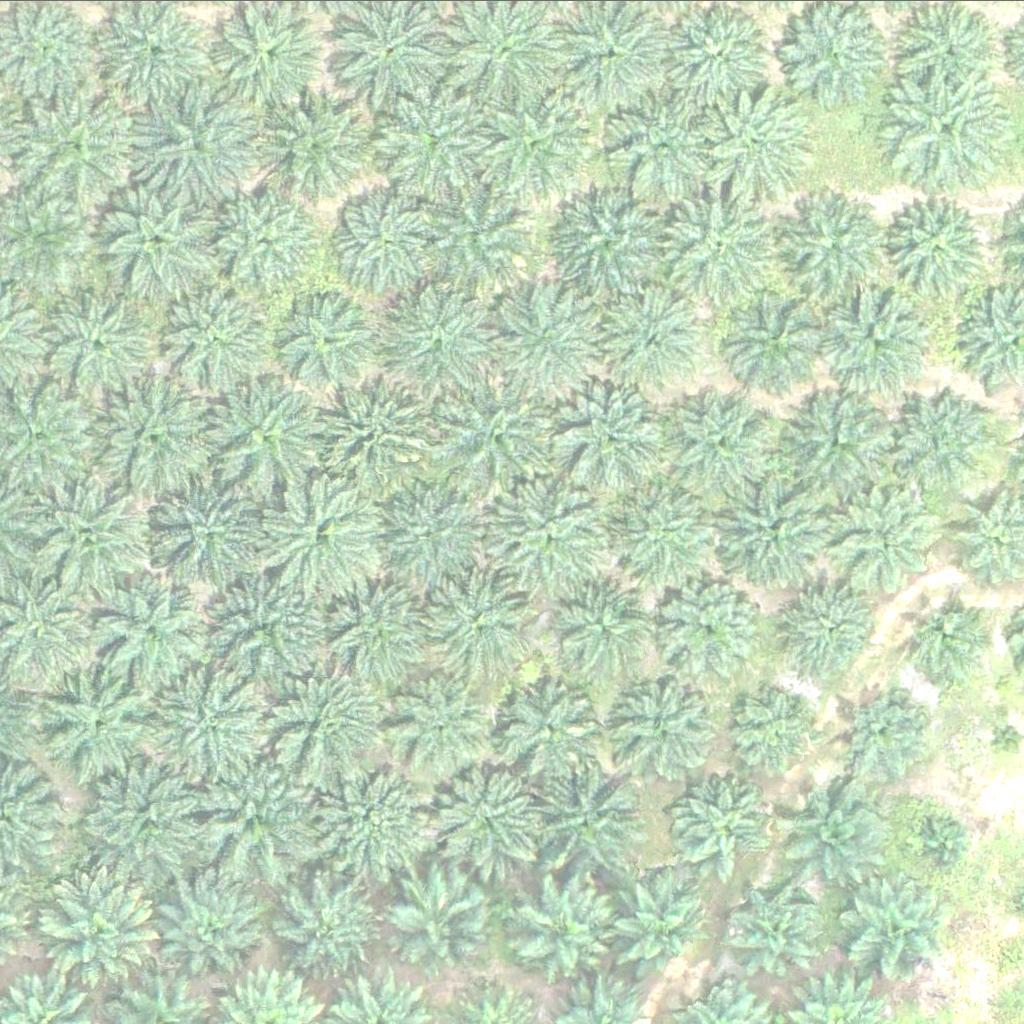Kelapa_Sawit: (29, 864, 155, 989), (146, 868, 272, 993), (87, 751, 213, 876), (198, 751, 324, 876), (142, 85, 268, 210), (105, 174, 231, 299), (29, 475, 155, 600), (158, 467, 284, 592), (94, 374, 220, 499), (307, 754, 433, 879), (272, 663, 398, 788), (711, 470, 837, 595), (604, 473, 730, 598), (482, 473, 608, 598), (262, 471, 388, 596), (303, 363, 429, 488), (426, 373, 552, 498), (555, 372, 681, 497), (775, 379, 901, 504), (493, 277, 619, 402), (383, 276, 509, 401), (546, 179, 672, 304), (657, 183, 783, 308), (702, 75, 828, 200), (604, 82, 730, 207), (884, 67, 1010, 192), (150, 656, 275, 781), (424, 759, 549, 884), (42, 285, 156, 398), (165, 272, 279, 385), (386, 482, 500, 595), (47, 671, 160, 784), (93, 571, 206, 684), (535, 762, 648, 875), (784, 771, 897, 884), (668, 386, 781, 499), (211, 180, 324, 293), (375, 87, 488, 200), (330, 185, 443, 298), (428, 178, 541, 291), (889, 384, 1002, 497), (20, 94, 133, 206), (213, 378, 326, 490), (718, 280, 831, 392), (254, 88, 367, 200), (784, 191, 897, 303), (834, 483, 947, 595), (608, 877, 709, 977), (675, 776, 776, 876), (623, 679, 724, 779), (502, 681, 603, 781), (390, 676, 491, 776), (432, 568, 533, 668), (661, 575, 762, 675), (786, 579, 887, 679), (280, 290, 381, 390), (481, 92, 582, 192), (891, 1, 992, 101), (895, 590, 996, 690), (849, 877, 950, 977), (284, 877, 384, 977), (392, 869, 492, 969), (518, 881, 618, 981), (325, 587, 425, 687), (613, 280, 713, 380), (886, 198, 986, 298), (830, 286, 930, 386), (212, 578, 312, 677), (732, 887, 820, 975), (566, 584, 654, 672), (840, 688, 929, 775), (733, 689, 821, 776), (917, 819, 968, 869)
